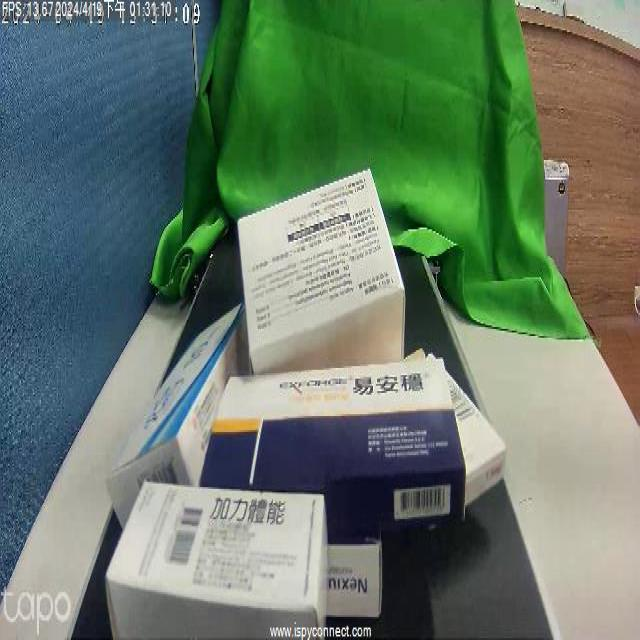box: (224, 352, 450, 497), (230, 186, 379, 370), (133, 487, 325, 621), (136, 327, 238, 493)
